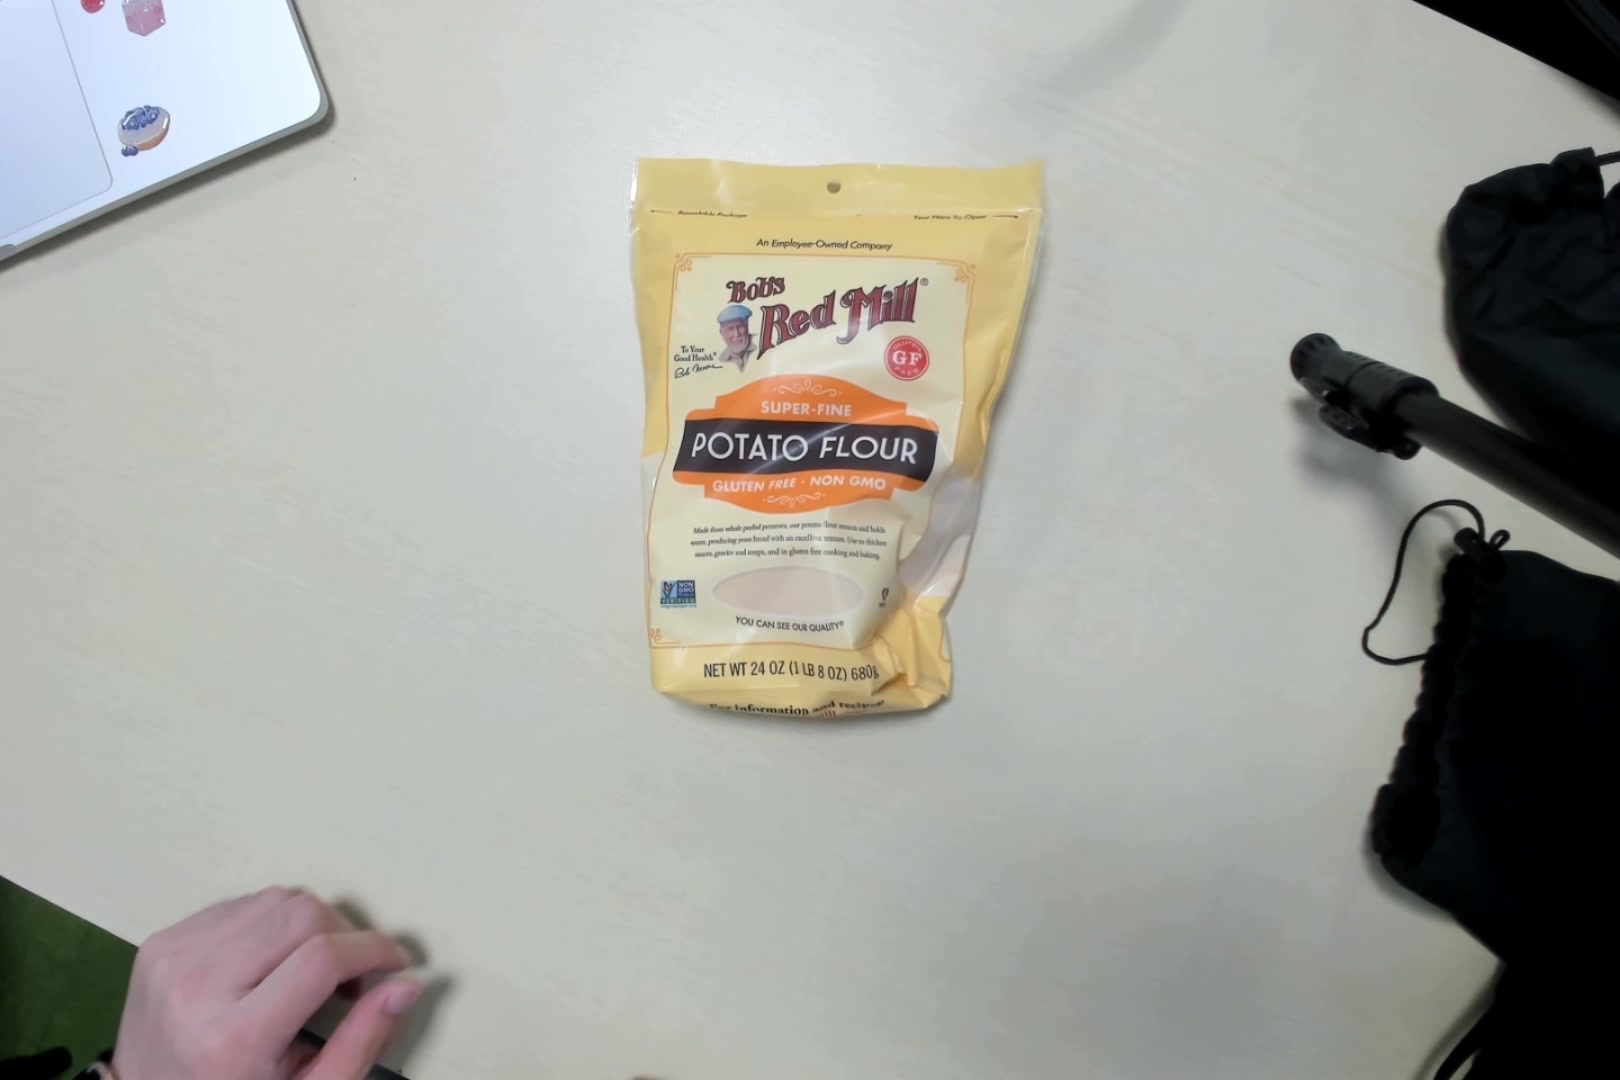OtherBakingNeeds_600-699g_NonHalal_NonHealthy: (627, 154, 1039, 732)
